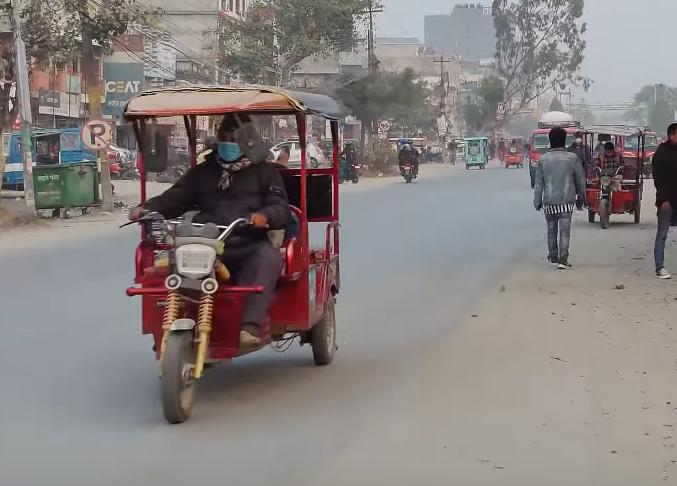e-rickshaw: (116, 74, 372, 431), (580, 120, 646, 229), (463, 136, 492, 172), (501, 133, 528, 171)
